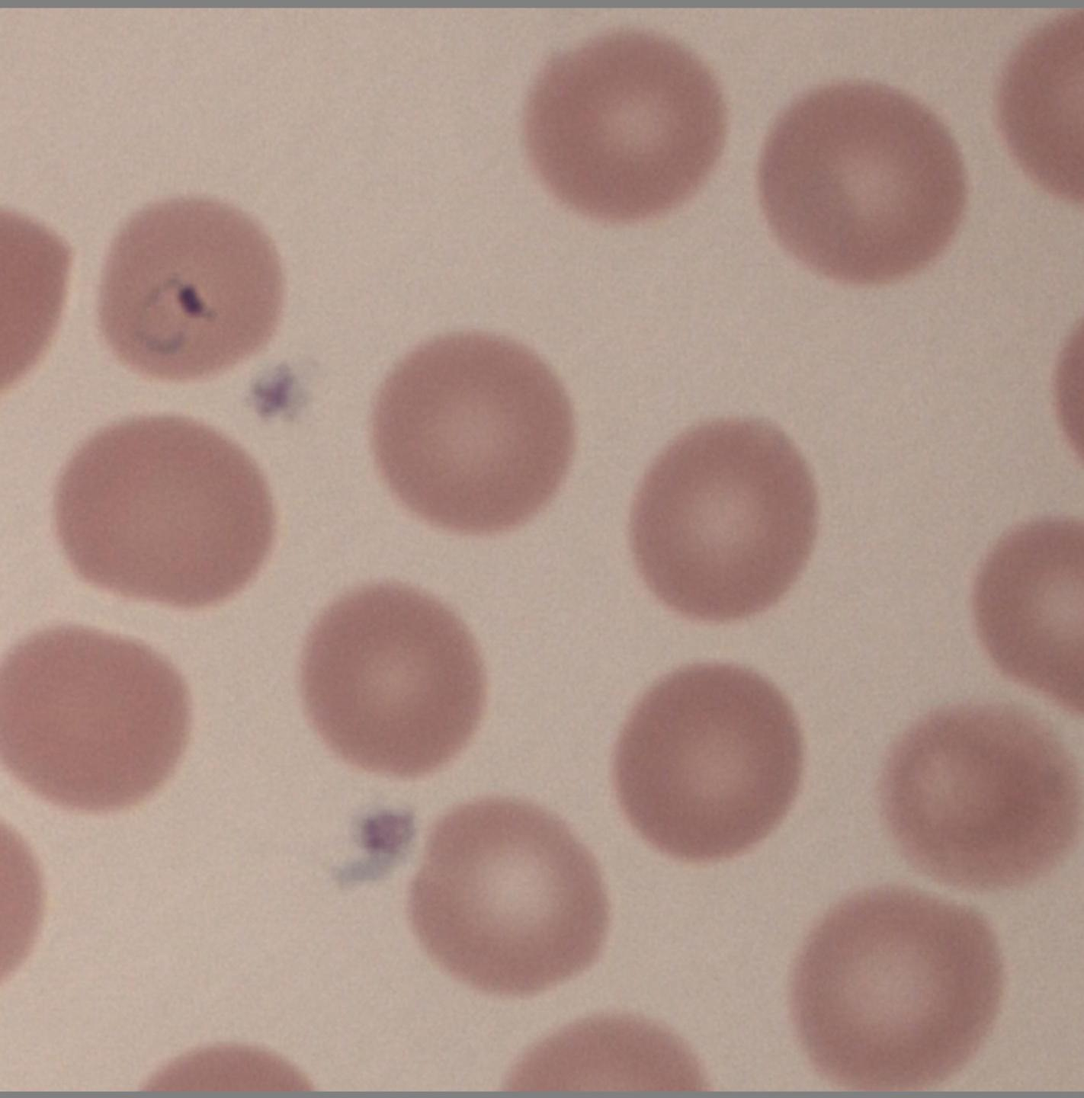Infected: (99, 198, 287, 379)
Uninfected: (53, 418, 273, 610), (756, 81, 969, 278), (374, 331, 579, 532), (788, 891, 996, 1086), (525, 26, 727, 219), (409, 799, 606, 993), (612, 665, 805, 860), (628, 418, 819, 615), (301, 582, 489, 776), (2, 626, 187, 813), (883, 706, 1071, 887)
